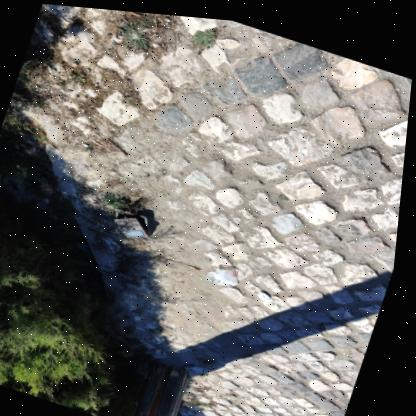Plastic: (208, 263, 244, 282)
Waste: (307, 343, 335, 348), (263, 287, 275, 295), (195, 262, 205, 268), (96, 138, 104, 145)
